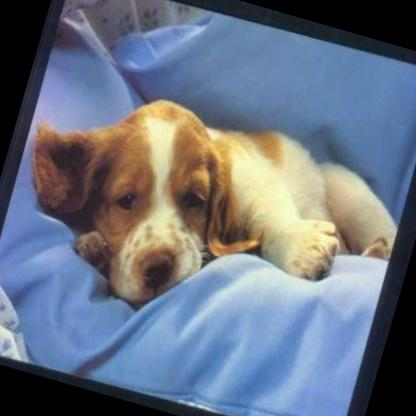Brittany_spaniel: (0, 61, 414, 373)
